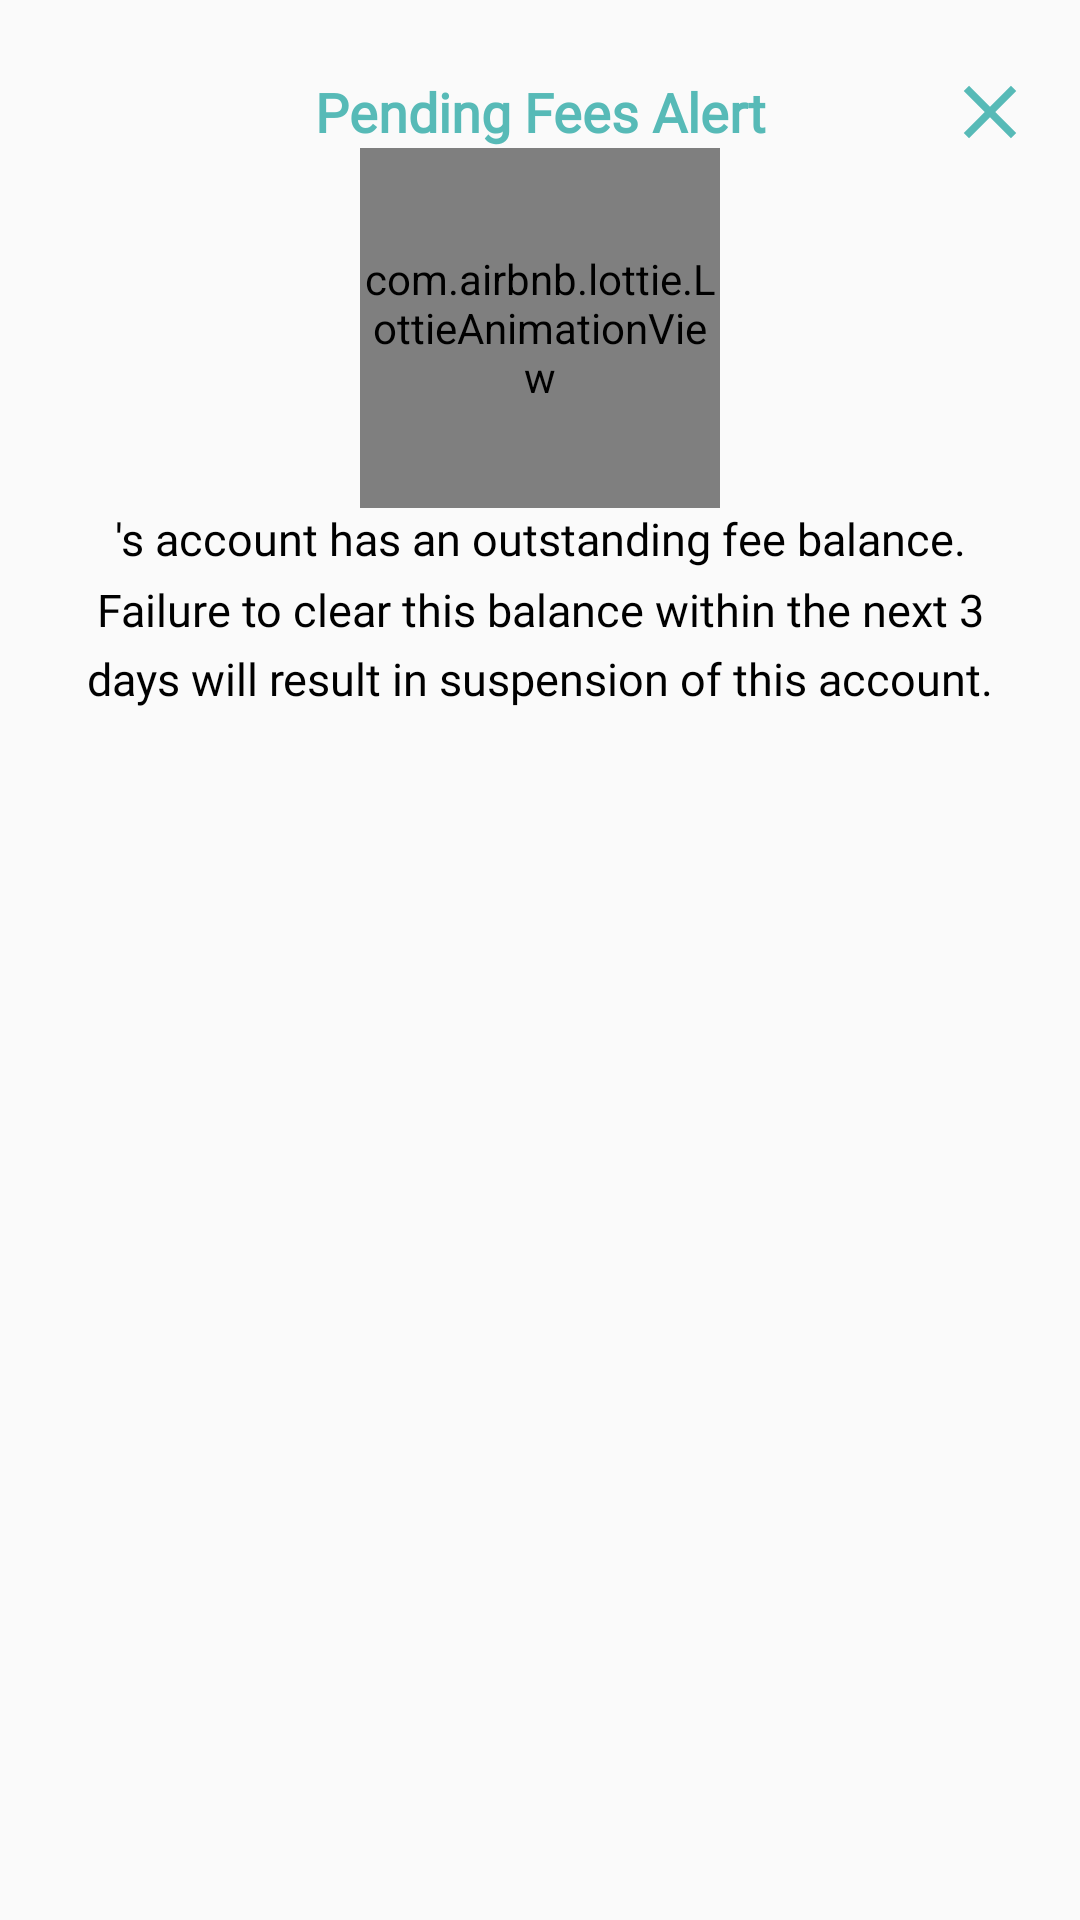

Where to tap for icons on this 1080px x 1920px app screen, as point (x, y):
close: point (990, 112)
